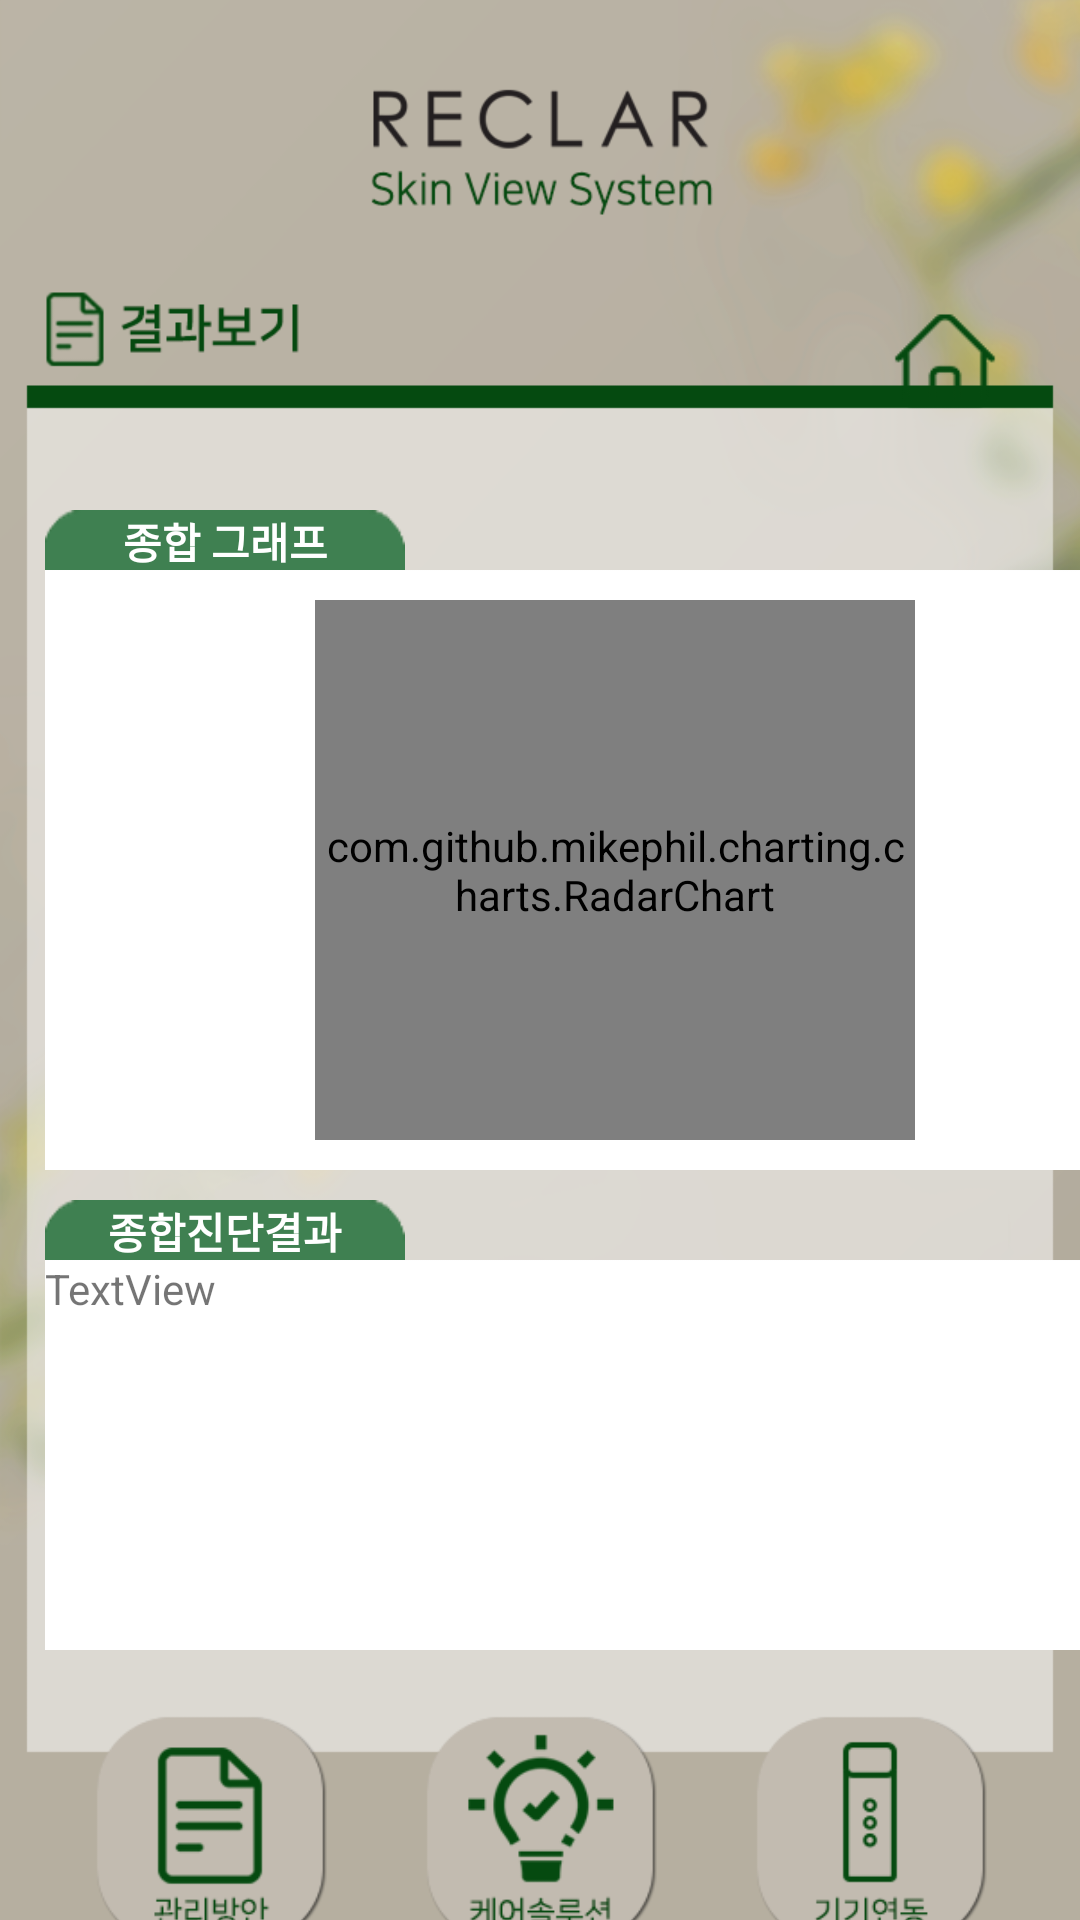

Named icons in this screenshot (1080px×1920px) and their centers, point (x, y):
home: point (945, 360)
